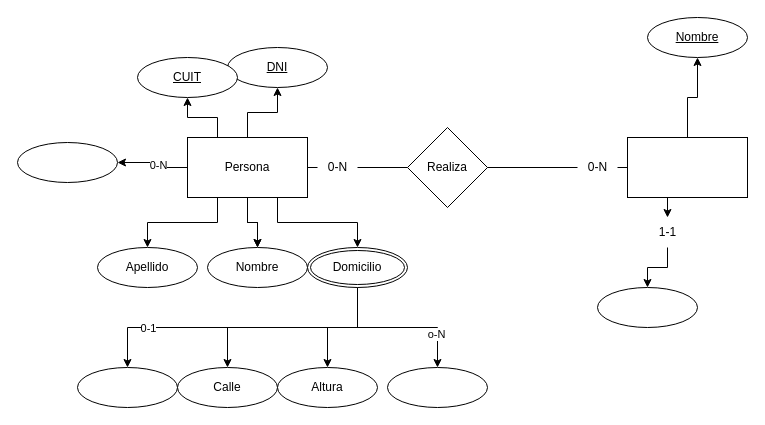
Image size: 765x425. Some labels were removed from this diagram. The shapes that lost their labels are listed below. From the top down, each one's centre as x and y in pixels, then its label:
the point at 67,162: Telefonos
the point at 687,167: Actividades
the point at 647,307: Descripcion
the point at 127,387: Piso
the point at 437,387: Departamento
